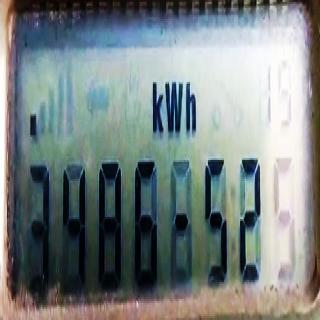-: (28, 112, 38, 142)
1: (265, 59, 276, 135)
2: (235, 152, 265, 291)
3: (24, 155, 52, 304)
4: (58, 151, 90, 291)
5: (201, 147, 231, 297), (270, 146, 298, 288)
6: (131, 150, 162, 294)
8: (95, 155, 124, 302)
9: (276, 53, 294, 134)
